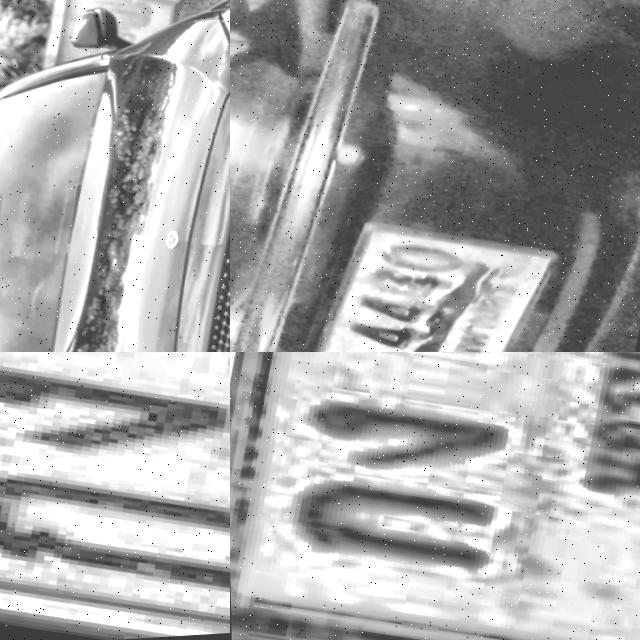license-plate: (230, 352, 640, 640), (0, 352, 230, 640), (322, 231, 550, 352)
